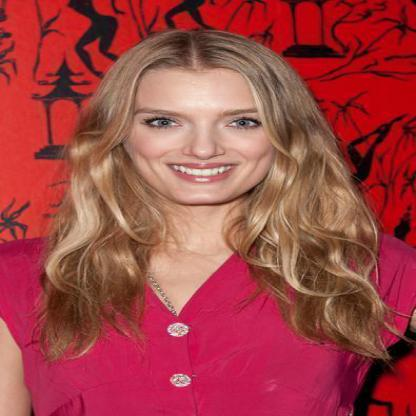long-hair: (45, 206, 380, 274)
